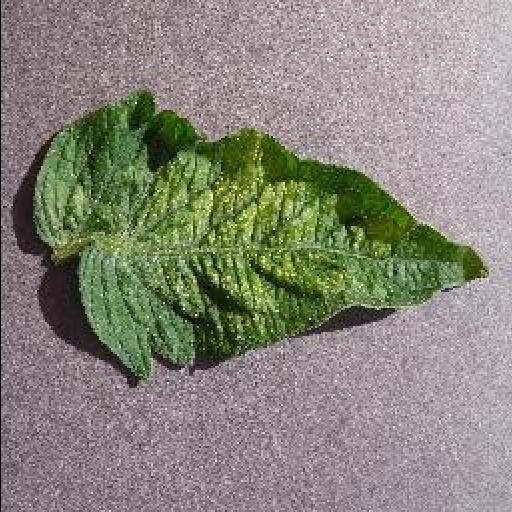disease_tomato: (28, 86, 490, 380)
